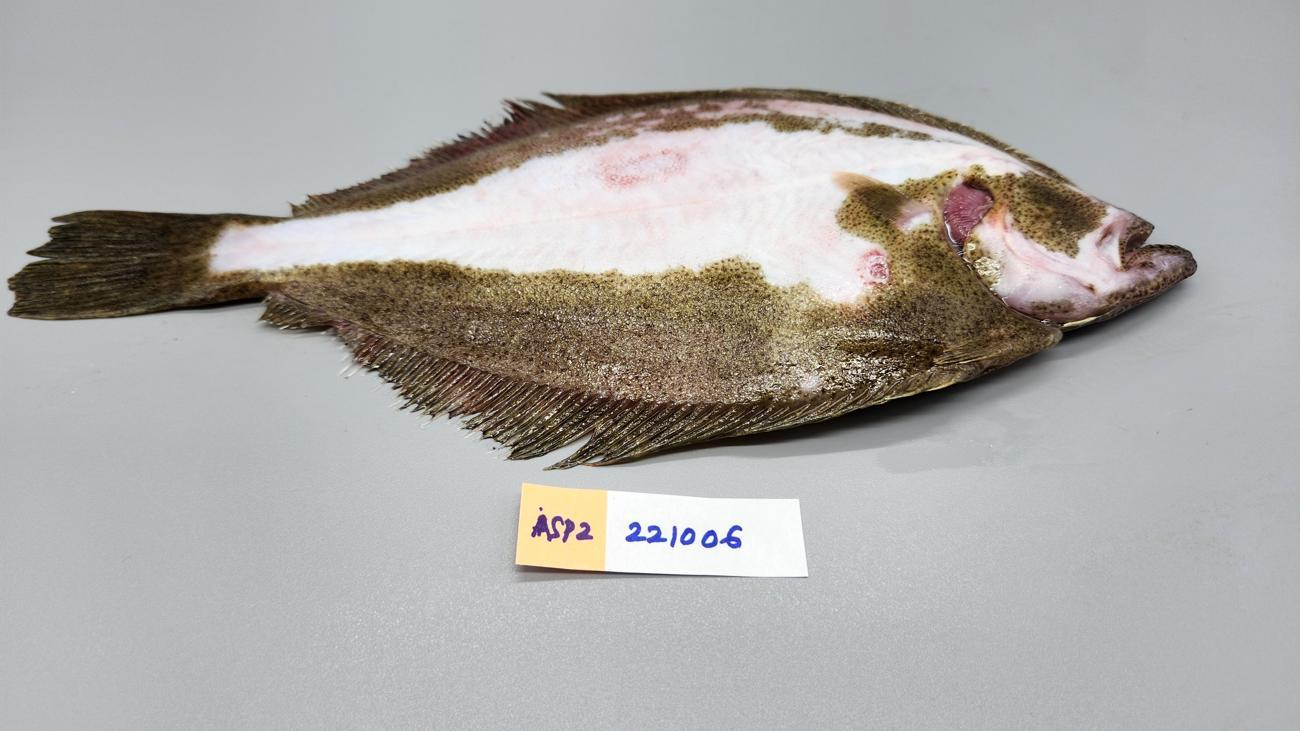SPDYH: (333, 282, 756, 400), (839, 246, 902, 329)
SPOUY: (1, 79, 1207, 476)
